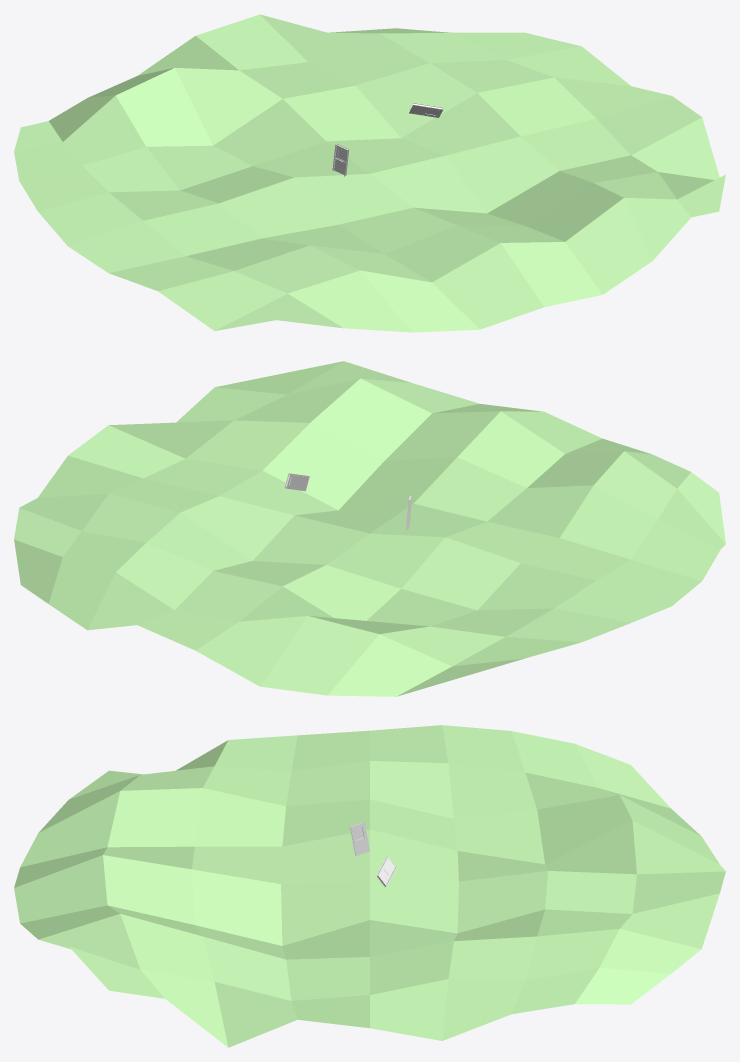
File: room_04.glb
3 views of the same model, one above another, from view 1: azimuth 30°, elevation 25°; view 2: azimuth 150°, elevation 25°; view 3: azimuth 270°, elevation 25° (orthographic). The views are drawn at different scales.
Visible parts, largest first — view 1: Floor; view 2: Floor; view 3: Floor.
Boxes of the visible parts, box(x1,y1,x2,y2) form: Floor: box(14, 14, 725, 332); Floor: box(14, 361, 725, 696); Floor: box(14, 725, 725, 1047).
Bounding box in the file's own units: 170 × 20.87 × 170.
